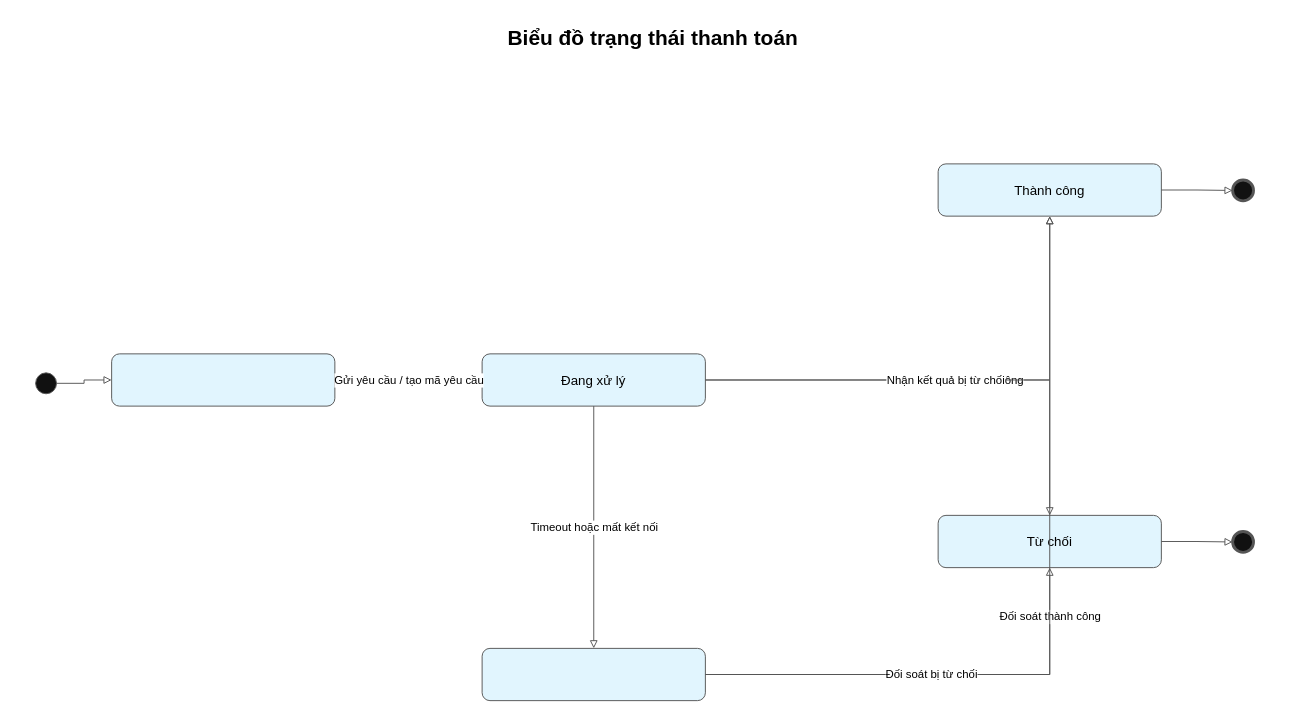
The diagram is 1305 pixels wide and 717 high, and some of its shapes have lost their labels. The shapes that lost their labels are listed below. From the top down, each one's centre as x and y in pixels, then its label:
At (223,379): "Khởi tạo".
At (593,674): "Chưa rõ kết quả".
